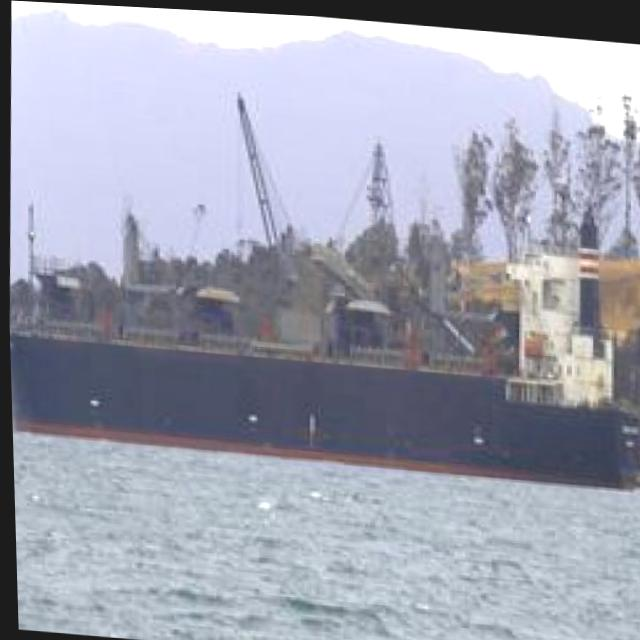ship2: (8, 203, 631, 481)
